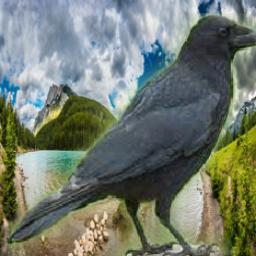Crow: (9, 14, 256, 256)
